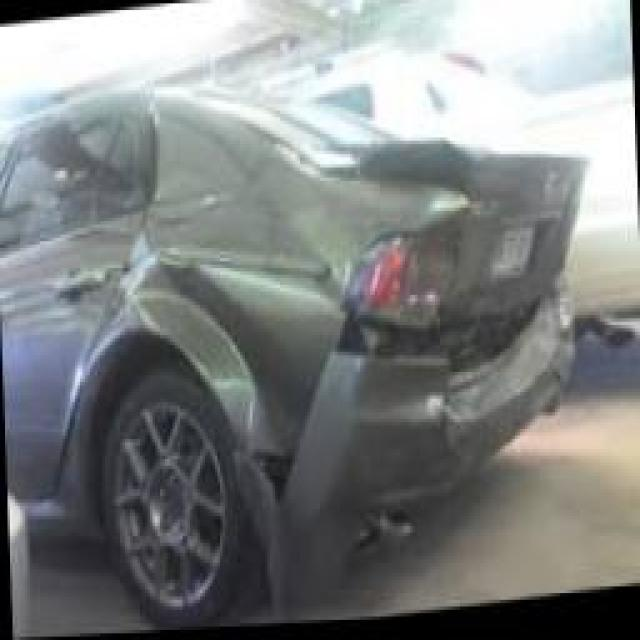Bumper: (265, 280, 577, 606)
Dickey: (317, 134, 586, 336)
Fender: (120, 247, 345, 458)
